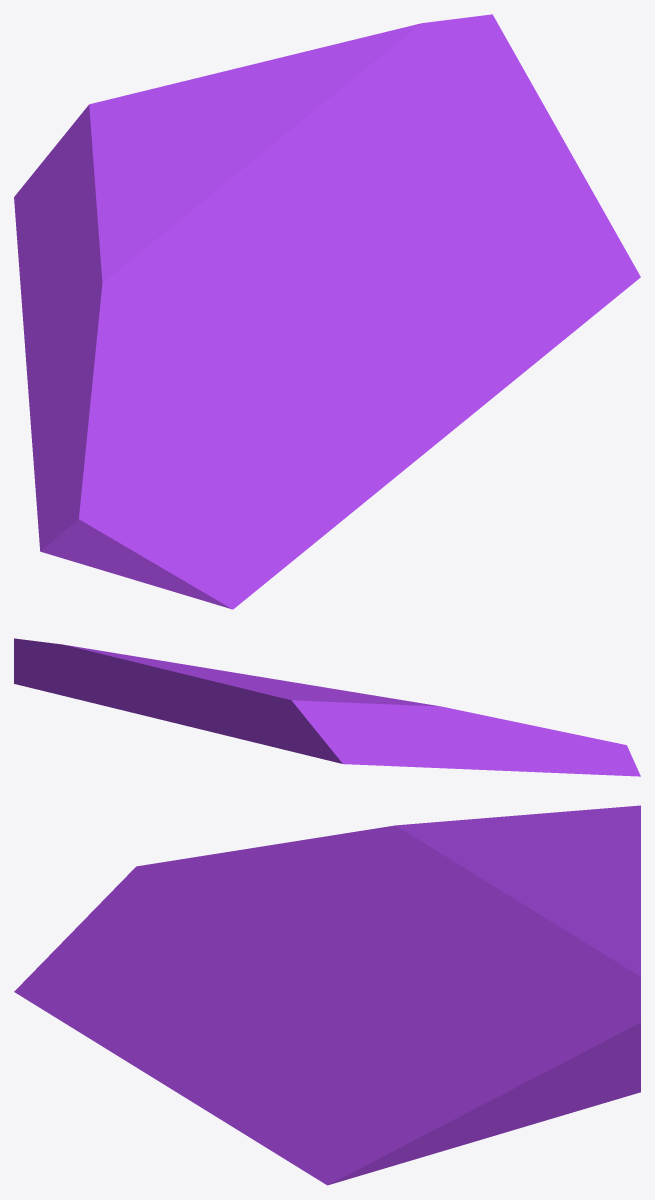
File: Window_137_1_chunks.fbx
The picture shows the model from 3 angles, top to bottom: view 1: azimuth 30°, elevation 25°; view 2: azimuth 150°, elevation 25°; view 3: azimuth 270°, elevation 25°; orthographic projection. The views are drawn at different scales.
Parts seen in each view (by area): view 1: Window_137_1_3, Window_137_1_2, Window_137_1_7, Window_137_1_6, Window_137_1_11, Window_137_1_8, Window_137_1_12, Window_137_1_4, Window_137_1_5, Window_137_1_1, Window_137_1_0, Window_137_1_9 (+1 smaller); view 2: Window_137_1_9, Window_137_1_3, Window_137_1_11, Window_137_1_12, Window_137_1_5, Window_137_1_1, Window_137_1_6; view 3: Window_137_1_2, Window_137_1_6, Window_137_1_7, Window_137_1_3, Window_137_1_8, Window_137_1_12, Window_137_1_4, Window_137_1_5, Window_137_1_11, Window_137_1_0, Window_137_1_1, Window_137_1_9 (+1 smaller).
Boxes of the visible parts, <box> form: Window_137_1_3: <box>26,282,206,586</box>; Window_137_1_2: <box>156,369,448,609</box>; Window_137_1_7: <box>295,171,570,433</box>; Window_137_1_6: <box>449,14,640,319</box>; Window_137_1_11: <box>17,138,233,293</box>; Window_137_1_8: <box>379,73,588,334</box>; Window_137_1_12: <box>181,39,356,213</box>; Window_137_1_4: <box>173,249,415,399</box>; Window_137_1_5: <box>307,17,472,172</box>; Window_137_1_1: <box>21,246,208,358</box>; Window_137_1_0: <box>231,202,398,380</box>; Window_137_1_9: <box>14,79,191,239</box>; Window_137_1_9: <box>186,683,378,765</box>; Window_137_1_3: <box>441,706,640,776</box>; Window_137_1_11: <box>287,683,424,767</box>; Window_137_1_12: <box>107,655,299,725</box>; Window_137_1_5: <box>28,640,157,716</box>; Window_137_1_1: <box>389,698,478,769</box>; Window_137_1_6: <box>14,638,79,699</box>; Window_137_1_2: <box>14,916,284,1093</box>; Window_137_1_6: <box>288,1007,640,1185</box>; Window_137_1_7: <box>180,935,492,1151</box>; Window_137_1_3: <box>63,825,396,941</box>; Window_137_1_8: <box>273,984,581,1160</box>; Window_137_1_12: <box>448,858,640,943</box>; Window_137_1_4: <box>222,883,418,1063</box>; Window_137_1_5: <box>480,936,640,1009</box>; Window_137_1_11: <box>417,809,594,894</box>; Window_137_1_0: <box>246,903,459,1047</box>; Window_137_1_1: <box>340,821,442,888</box>; Window_137_1_9: <box>551,805,640,858</box>.
Size of the model in its own units: 960 by 338 by 723.
